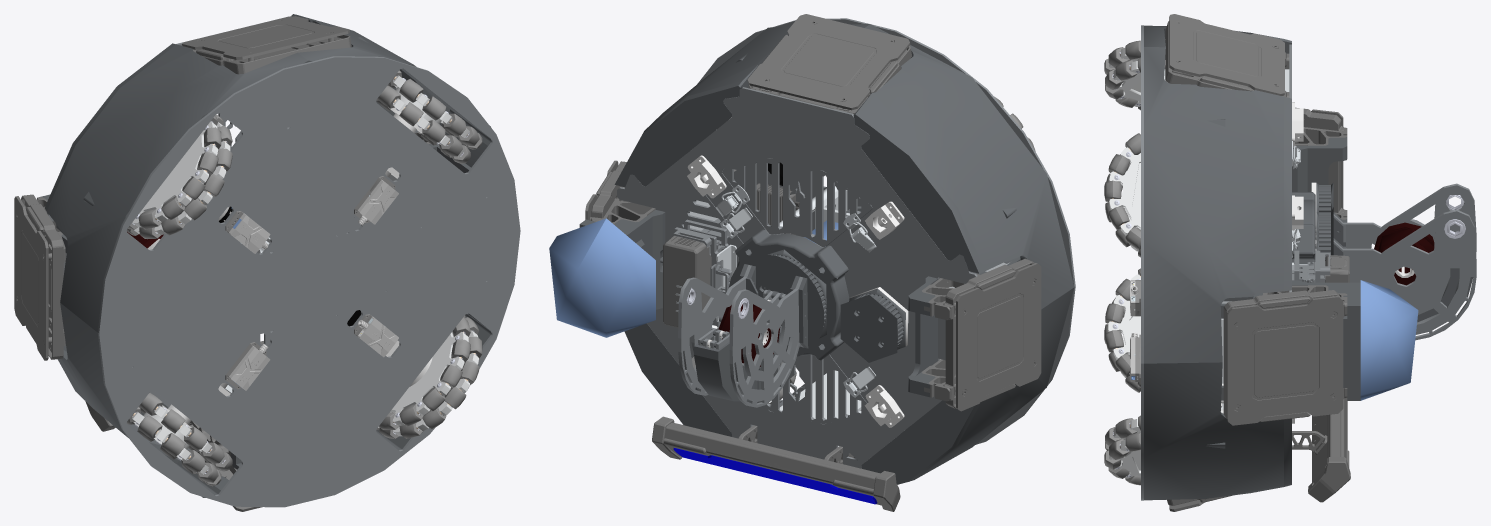
File: Infantry - November 2nd.glb
3 renders of one model, left to right at view 1: azimuth 30°, elevation 25°; view 2: azimuth 150°, elevation 25°; view 3: azimuth 270°, elevation 25°, orthographic. The views are drawn at different scales.
Visible parts, largest first — view 1: empty_101, empty_100, empty_64, empty_87, empty_59, empty_318, empty_52, empty_72, empty_320, empty_945, empty_1415, empty_3091 (+5 smaller); view 2: empty_180, empty_64, empty_169, empty_87, empty_318, empty_59, empty_52, empty_3129, empty_60, empty_20, empty_22, empty_68 (+25 smaller); view 3: empty_52, empty_68, empty_148, empty_3134, empty_318, empty_169, empty_3129, empty_54, empty_65, empty_142, empty_72, empty_159 (+21 smaller).
Boxes of the visible parts, x1=… form: empty_101: x1=97, y1=56, x2=520, y2=333; empty_100: x1=98, y1=231, x2=520, y2=507; empty_64: x1=44, y1=43, x2=308, y2=332; empty_87: x1=14, y1=196, x2=48, y2=360; empty_59: x1=58, y1=303, x2=228, y2=497; empty_318: x1=182, y1=16, x2=349, y2=59; empty_52: x1=291, y1=14, x2=490, y2=167; empty_72: x1=21, y1=194, x2=63, y2=359; empty_320: x1=193, y1=35, x2=351, y2=74; empty_945: x1=132, y1=121, x2=214, y2=224; empty_1415: x1=391, y1=332, x2=464, y2=423; empty_3091: x1=229, y1=346, x2=270, y2=390; empty_180: x1=617, y1=87, x2=977, y2=468; empty_64: x1=853, y1=24, x2=1073, y2=309; empty_169: x1=549, y1=218, x2=655, y2=337; empty_87: x1=956, y1=263, x2=1041, y2=411; empty_318: x1=747, y1=14, x2=910, y2=110; empty_59: x1=861, y1=287, x2=1074, y2=484; empty_52: x1=614, y1=24, x2=869, y2=187; empty_3129: x1=729, y1=276, x2=803, y2=407; empty_60: x1=722, y1=158, x2=872, y2=247; empty_20: x1=735, y1=229, x2=849, y2=360; empty_22: x1=728, y1=249, x2=826, y2=356; empty_68: x1=624, y1=323, x2=782, y2=436; empty_52: x1=1144, y1=47, x2=1291, y2=363; empty_68: x1=1144, y1=362, x2=1291, y2=500; empty_148: x1=1227, y1=296, x2=1343, y2=425; empty_3134: x1=1333, y1=209, x2=1476, y2=340; empty_318: x1=1169, y1=14, x2=1284, y2=95; empty_169: x1=1360, y1=280, x2=1418, y2=400; empty_3129: x1=1333, y1=183, x2=1476, y2=252; empty_54: x1=1292, y1=280, x2=1360, y2=400; empty_65: x1=1292, y1=137, x2=1347, y2=222; empty_142: x1=1223, y1=290, x2=1344, y2=421; empty_72: x1=1295, y1=108, x2=1344, y2=213; empty_159: x1=1313, y1=412, x2=1339, y2=480.
Bounding box in the file's own units: 0.5211 × 0.5163 × 0.3906.
